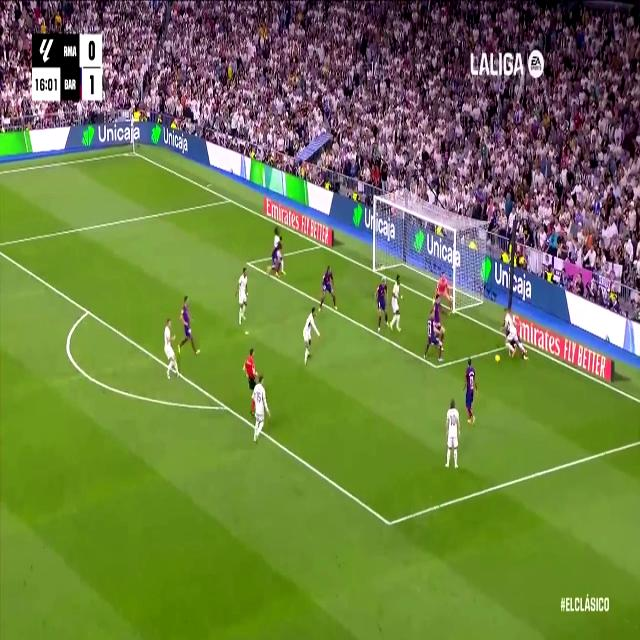bigarea_bottom_inner: (382, 506, 396, 538)
bigarea_top_outter: (225, 191, 233, 206)
bottom_arc_area_intersection: (220, 396, 230, 416)
corner: (128, 146, 139, 158)
smallarea_top_inner: (244, 254, 253, 272)
top_arc_area_intersection: (83, 300, 93, 321)
